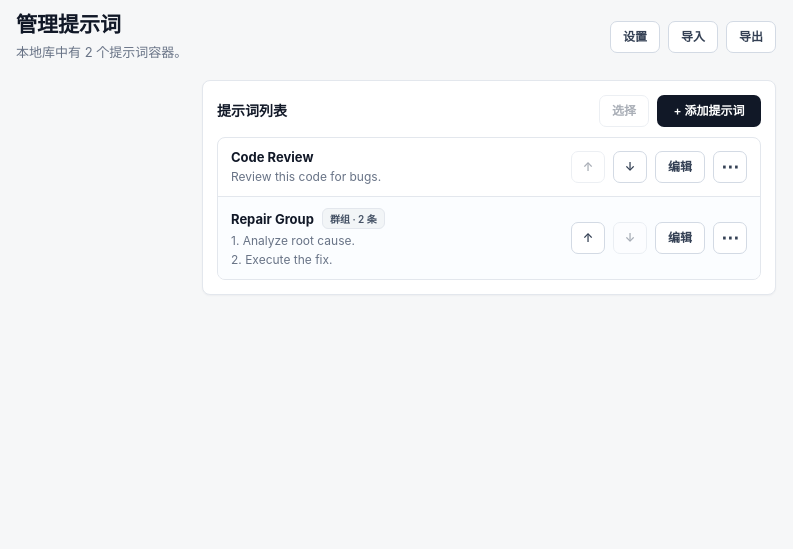
Scenario: prompt manager › creates a single prompt container
This screenshot has width=793, height=549.
Click the button "+ 添加提示词" at {"x": 709, "y": 111}, box [657,95,761,127]
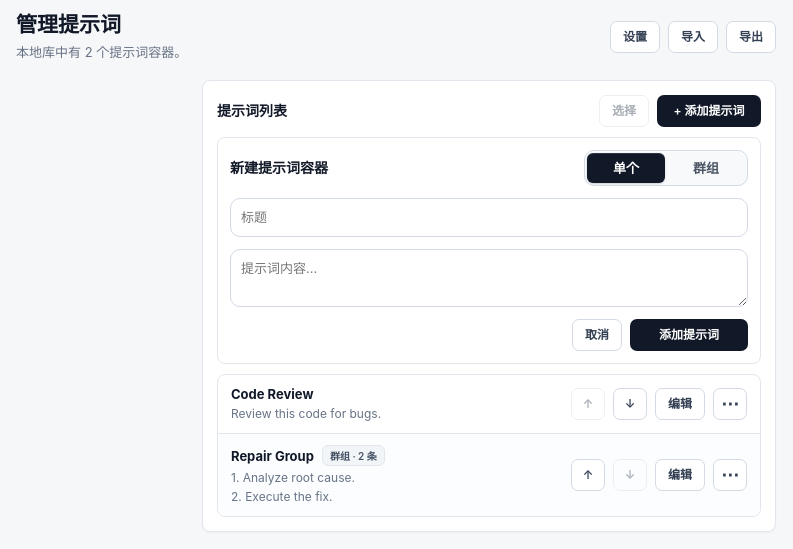
Type "New Single" into the field with placeholder "标题" at {"x": 489, "y": 217}, box [230,198,748,237]
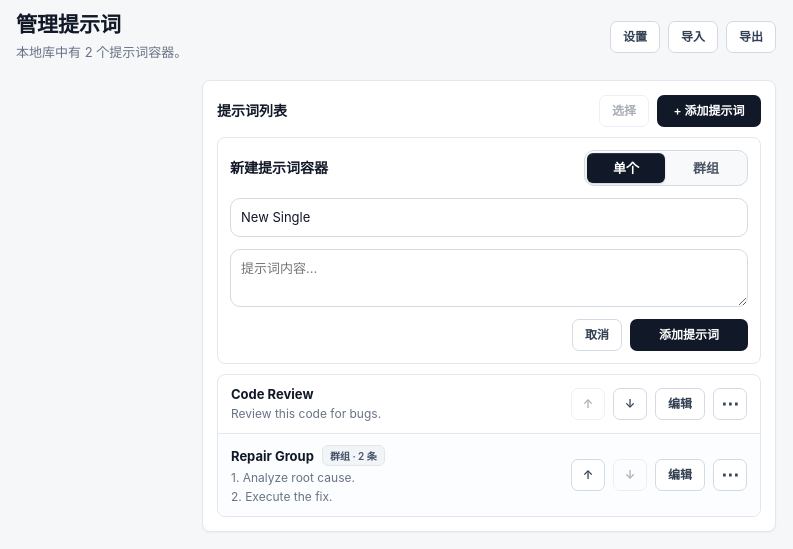
Type "Single body" into the text box with placeholder "提示词内容..." at {"x": 489, "y": 278}, box [230,249,748,307]
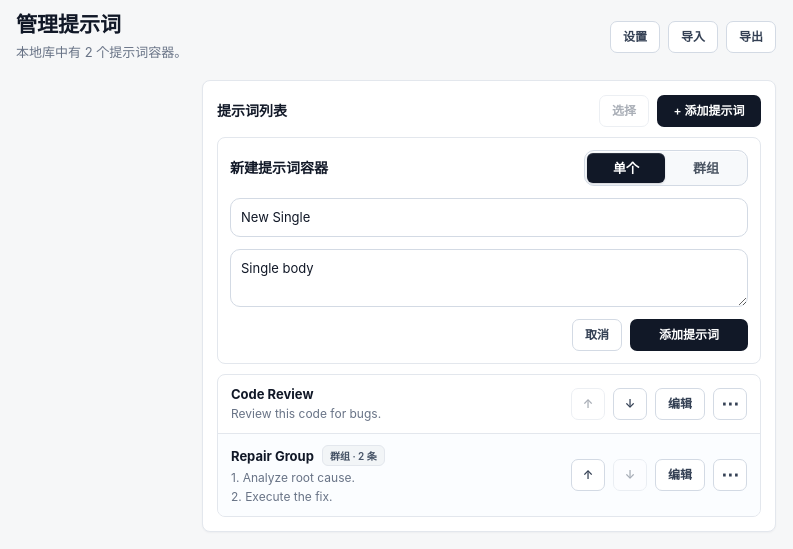
Click the button "添加提示词" at {"x": 689, "y": 335}, box [630,319,748,351]
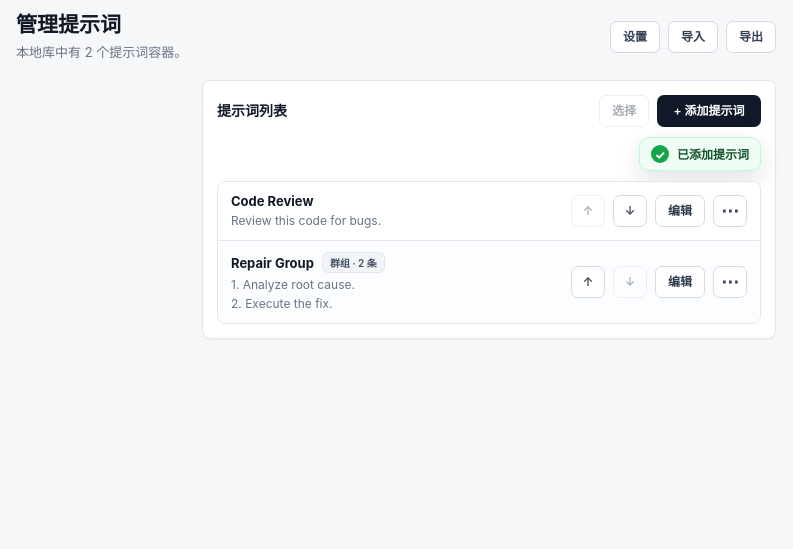
Expected: the heading "新建提示词容器" is gone
